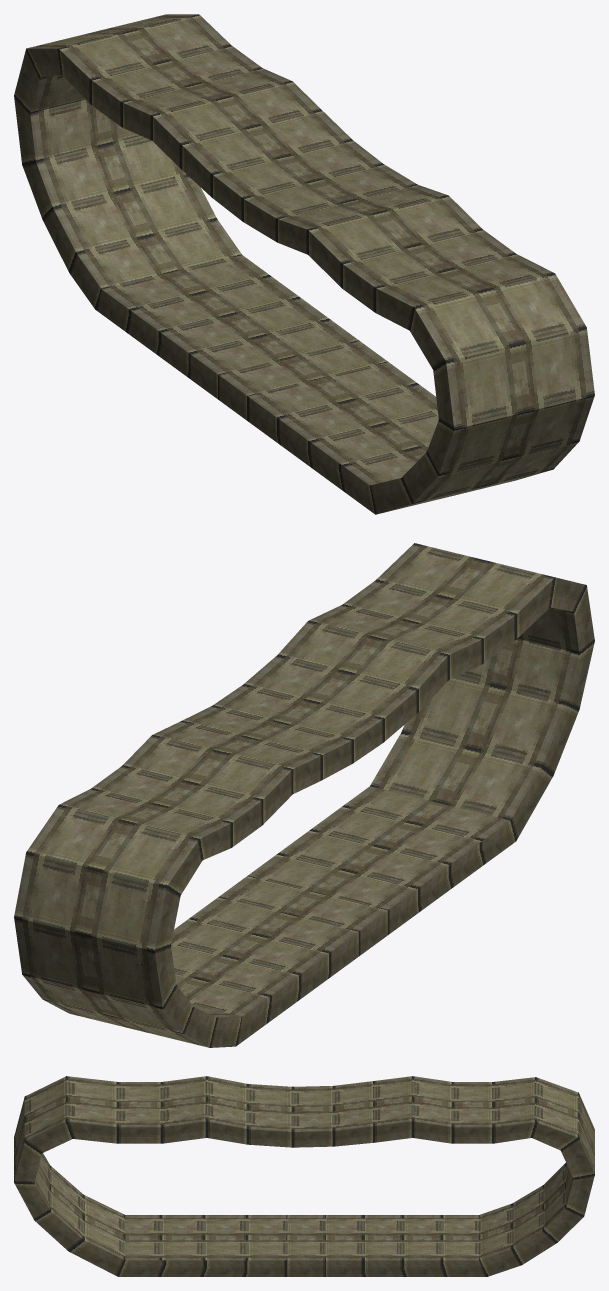
The model's file is VWFAAH_TRAC_L.obj.
3 views of the same model, one above another, from view 1: azimuth 30°, elevation 25°; view 2: azimuth 150°, elevation 25°; view 3: azimuth 270°, elevation 25° (orthographic). The views are drawn at different scales.
Parts seen in each view (by area): view 1: Node 0; view 2: Node 0; view 3: Node 0.
Boxes of the visible parts, box(x1,y1,x2,y2) form: Node 0: box(14, 14, 594, 514); Node 0: box(14, 543, 594, 1047); Node 0: box(14, 1076, 594, 1276).
Bounding box in the file's own units: 1 × 1.6 × 5.42.
Materials: 1 (1 with a texture image).
